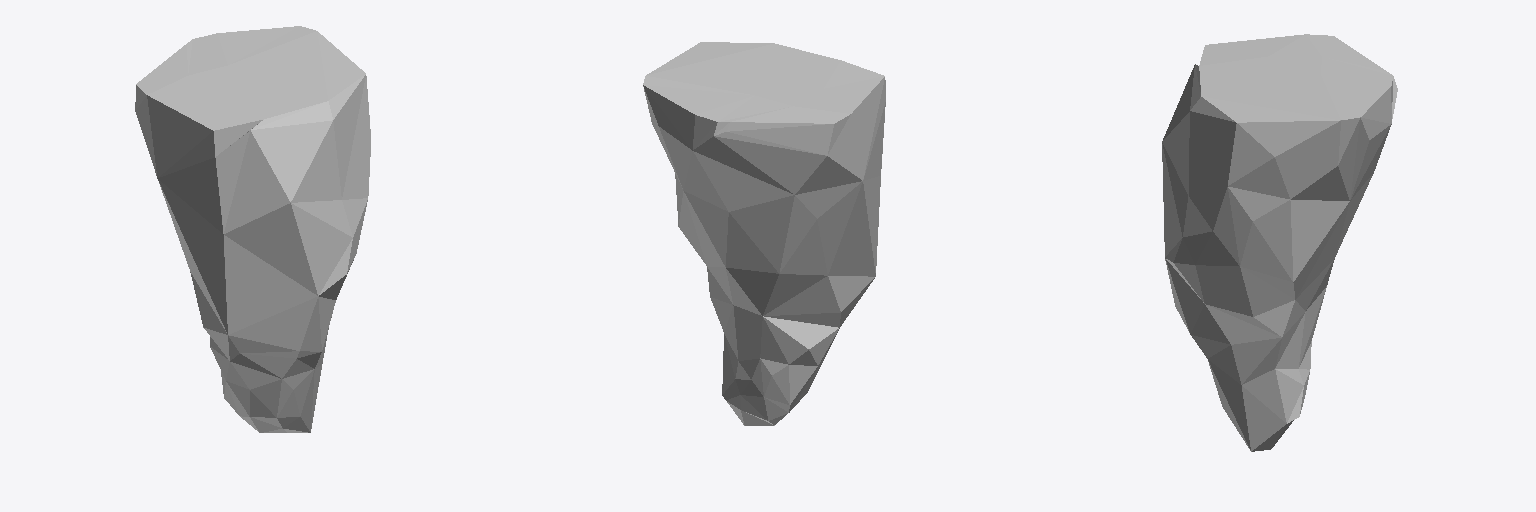
Rendered from tallrock2.obj.
The picture shows the model from 3 angles: view 1: azimuth 30°, elevation 25°; view 2: azimuth 150°, elevation 25°; view 3: azimuth 270°, elevation 25°; orthographic projection.
Parts seen in each view (by area): view 1: tallrock2; view 2: tallrock2; view 3: tallrock2.
Boxes of the visible parts, x1,y1,x2,y2 form: tallrock2: [135, 26, 370, 432]; tallrock2: [643, 42, 885, 425]; tallrock2: [1162, 34, 1397, 451].
Size of the model in its own units: 1.94 by 3.45 by 2.05.